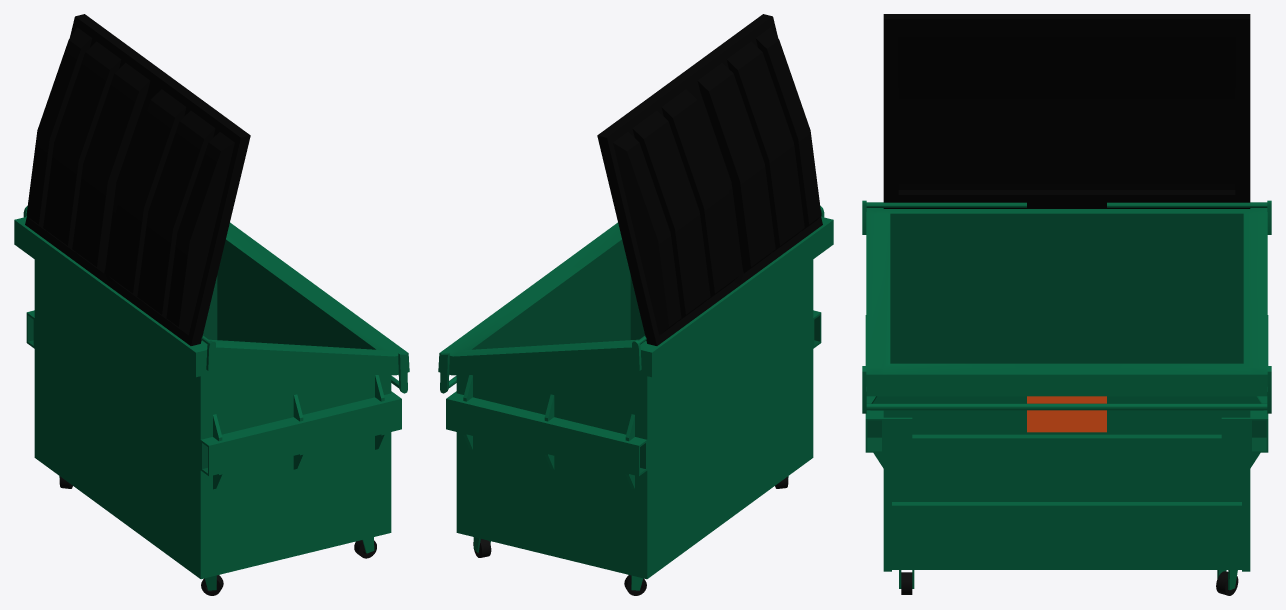
File: Dumpster_Open.glb
3 views of the same model, side by side, from view 1: azimuth 30°, elevation 25°; view 2: azimuth 150°, elevation 25°; view 3: azimuth 270°, elevation 25° (orthographic). The views are drawn at different scales.
Visible parts, largest first — view 1: Mesh_Dumpster_Open; view 2: Mesh_Dumpster_Open; view 3: Mesh_Dumpster_Open.
Boxes of the visible parts, box(x1,y1,x2,y2) form: Mesh_Dumpster_Open: box(14, 14, 409, 595); Mesh_Dumpster_Open: box(438, 14, 833, 595); Mesh_Dumpster_Open: box(862, 14, 1271, 595).
Bounding box in the file's own units: 1.21 × 2.46 × 1.8.
1 material, 1 textured.
